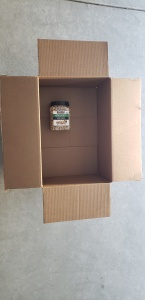innerbox: (38, 78, 112, 182)
outerbox: (3, 40, 142, 225)
product: (50, 102, 71, 132)
